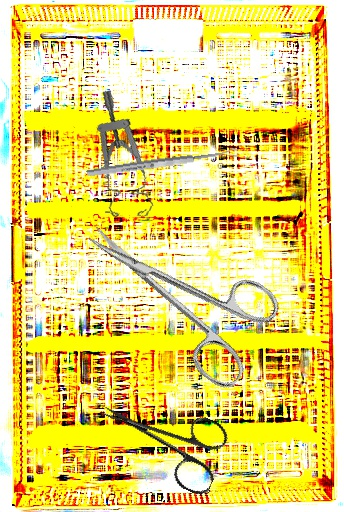Iris Scissors: (62, 186, 292, 394), (86, 377, 236, 499)
Speculum: (78, 88, 174, 225)
Surgical Spoon: (86, 147, 238, 179)
